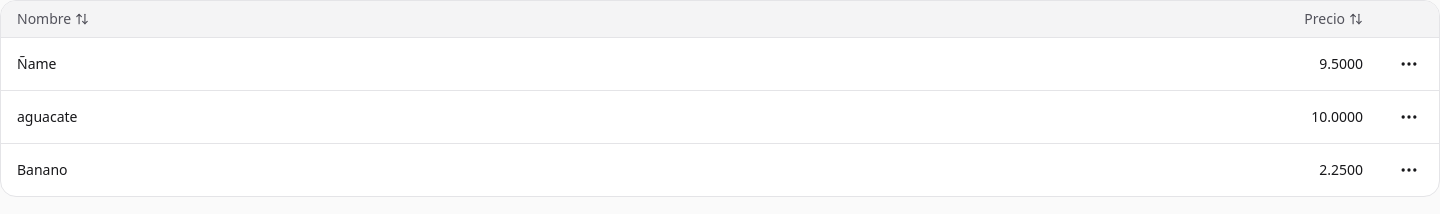
Test case: DataTable on desktop › the actions menu closes with Escape and gives focus back to its button
This screenshot has width=1440, height=214.
Click the button named "Acciones de Ñame". click: [1409, 64]
box: left=1387, top=42, right=1431, bottom=86
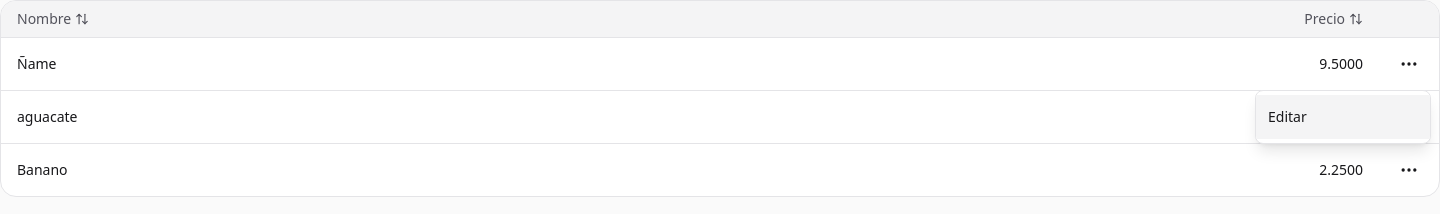
Press Escape in the menu, box left=1255, top=90, right=1431, bottom=144
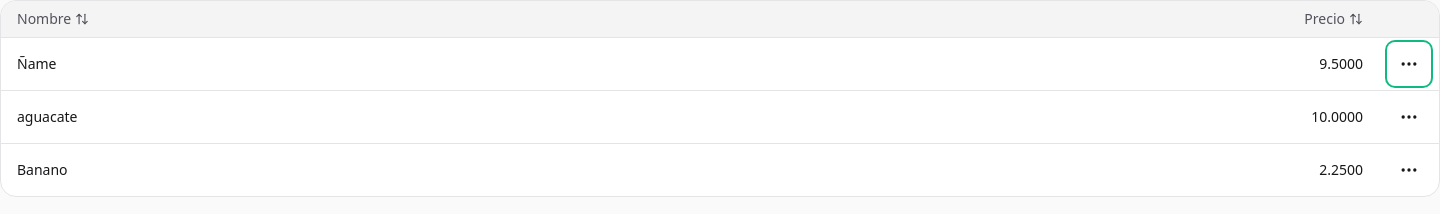
Result: the menu is gone
